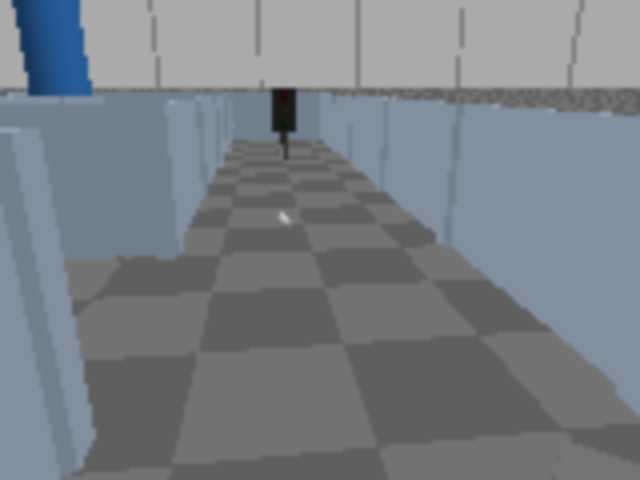obstacle: (520, 438, 638, 478)
puck: (273, 211, 292, 230)
